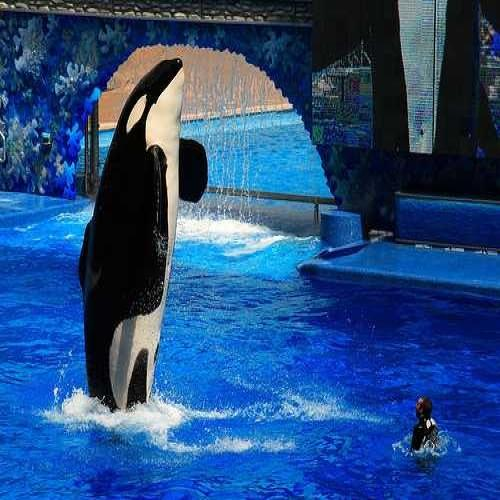killer_whale-endangered: (70, 52, 210, 427)
